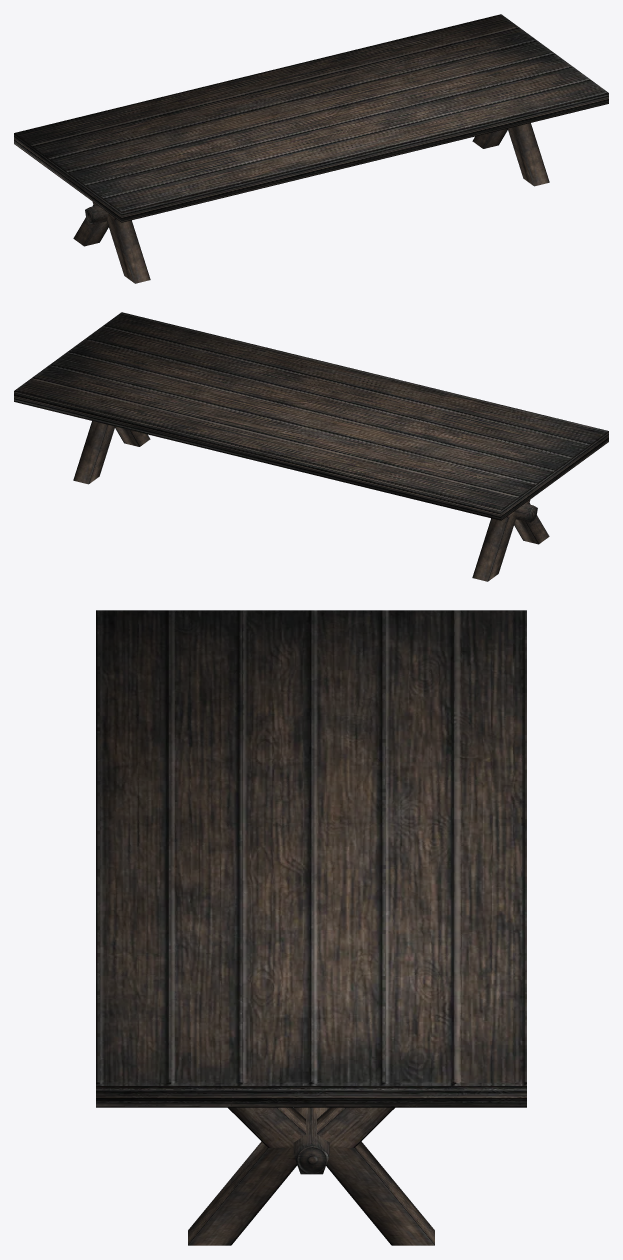
Rendered from GS_LOB_TABLE_HEAVY_LONG_BLACK_01_KOZA.glb.
3 renders of one model, top to bottom at view 1: azimuth 30°, elevation 25°; view 2: azimuth 150°, elevation 25°; view 3: azimuth 270°, elevation 25°, orthographic. The views are drawn at different scales.
Parts seen in each view (by area): view 1: Mesh; view 2: Mesh; view 3: Mesh.
Boxes of the visible parts, box(x1,y1,x2,y2) form: Mesh: box(14, 14, 608, 283); Mesh: box(14, 312, 608, 581); Mesh: box(96, 610, 526, 1245).
Bounding box in the file's own units: 4.7 × 0.9001 × 1.8.
3 materials, 3 textured.
